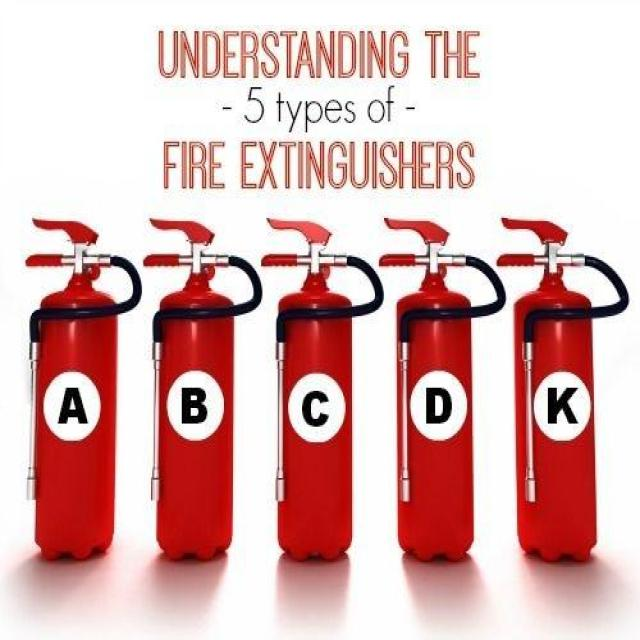fire_extinguisher: (494, 212, 629, 564), (255, 215, 384, 564), (377, 216, 505, 564), (17, 214, 143, 566), (139, 213, 264, 564)
